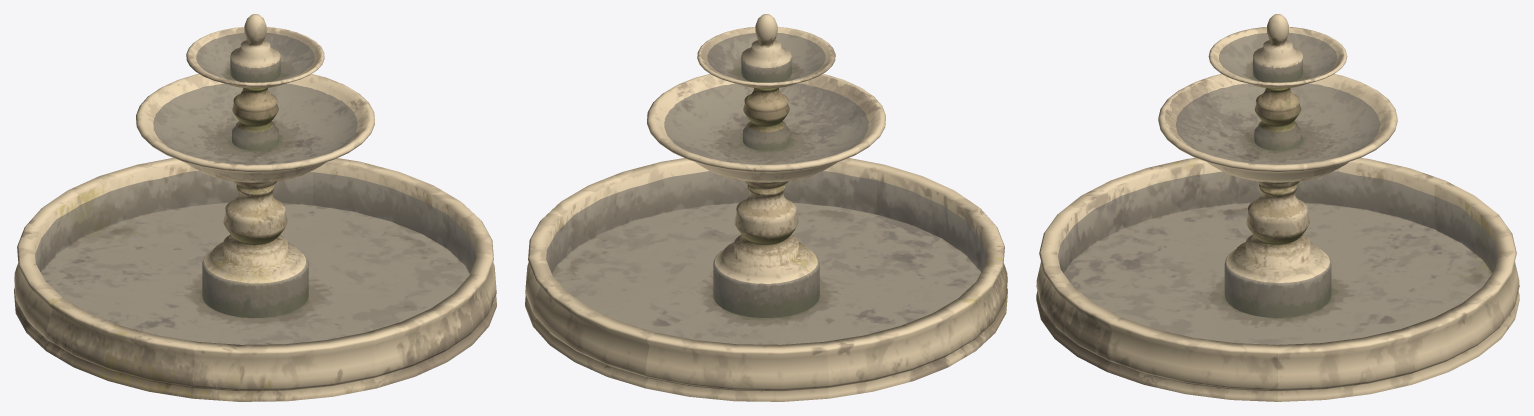
Rendered from fountain.glb.
3 views of the same model, side by side, from view 1: azimuth 30°, elevation 25°; view 2: azimuth 150°, elevation 25°; view 3: azimuth 270°, elevation 25° (orthographic).
Parts seen in each view (by area): view 1: Sphere.010, Sphere.001, Sphere.011, Sphere.012; view 2: Sphere.010, Sphere.001, Sphere.011, Sphere.012; view 3: Sphere.010, Sphere.001, Sphere.011, Sphere.012.
Part boxes in pixels (x1,y1,x2,y2): Sphere.010: (14, 14, 496, 401); Sphere.001: (35, 171, 475, 344); Sphere.011: (153, 83, 357, 164); Sphere.012: (196, 32, 314, 82); Sphere.010: (525, 14, 1007, 401); Sphere.001: (546, 171, 986, 344); Sphere.011: (664, 83, 868, 164); Sphere.012: (707, 33, 825, 82); Sphere.010: (1036, 14, 1519, 401); Sphere.001: (1058, 171, 1497, 344); Sphere.011: (1176, 83, 1380, 164); Sphere.012: (1219, 33, 1336, 82).
Bounding box in the file's own units: 4.83 × 3.14 × 4.83.
2 materials, 1 textured.
